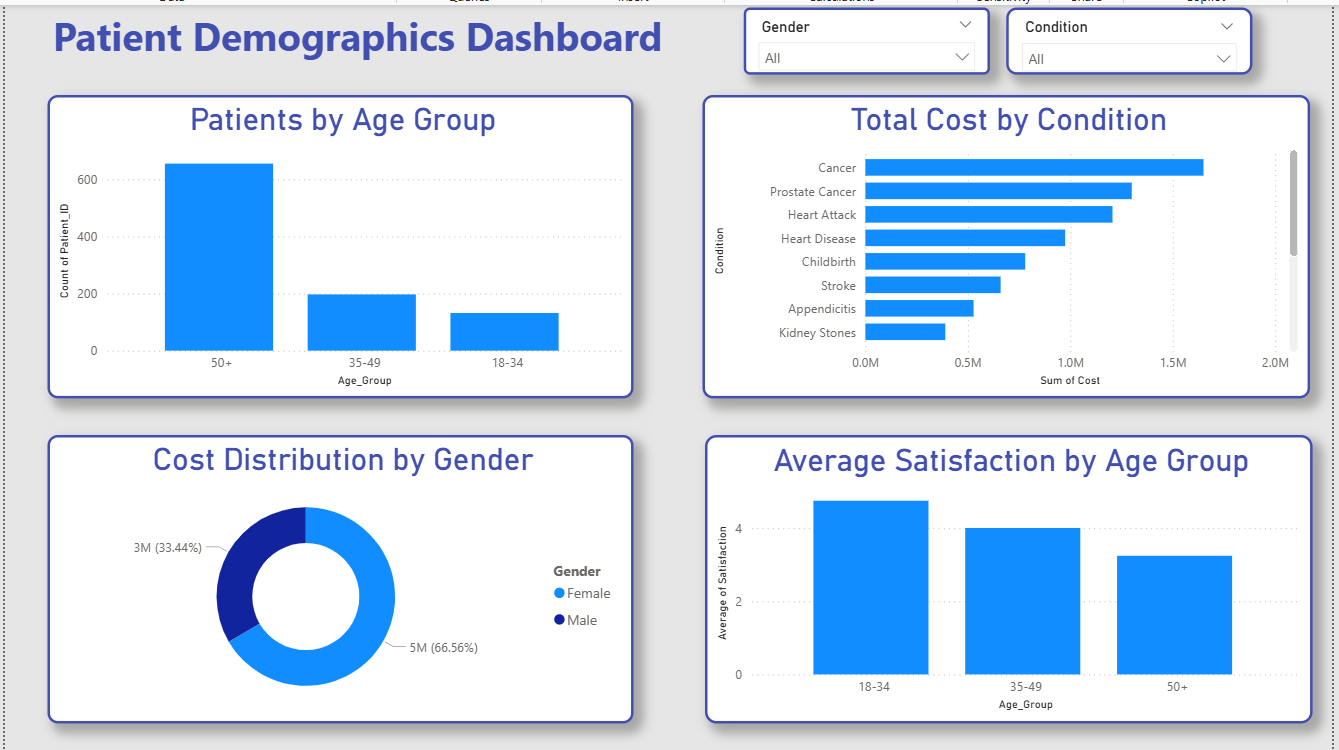

What the dashboard file says about the page in this screenshot:
{"tool":"powerbi","page":{"name":"Patient Demographics","canvas":[1280,720],"ordinal":1},"visuals":[{"type":"textbox","box":[41,0,631,67.6],"z":0},{"type":"clusteredColumnChart","title":"Patients by Age Group","fields":{"Category":["Table1.Age_Group"],"Y":["CountNonNull(Table1.Patient_ID)"]},"box":[41,86.9,565.8,293.2],"z":1000},{"type":"clusteredBarChart","title":"Total Cost by Condition","fields":{"Y":["Sum(Table1.Cost)"],"Category":["Table1.Condition"]},"box":[673.2,86.9,586.3,293.2],"z":2000},{"type":"donutChart","title":"Cost Distribution by Gender","fields":{"Category":["Table1.Gender"],"Y":["Sum(Table1.Cost)"]},"box":[41,415,565.8,278.7],"z":3000},{"type":"clusteredColumnChart","title":"Average Satisfaction by Age Group","fields":{"Category":["Table1.Age_Group"],"Y":["Avg(Table1.Satisfaction)"]},"box":[675.6,415,586.3,278.7],"z":4000},{"type":"slicer","fields":{"Values":["Table1.Gender"]},"box":[713,2.4,237.7,65.1],"z":5000},{"type":"slicer","fields":{"Values":["Table1.Condition"]},"box":[966.4,2.4,237.7,65.1],"z":6000}]}

Visuals, with their boxes in screenshot pixels (x1, y1, x2, y2):
textbox: x1=49, y1=3, x2=697, y2=73
"Patients by Age Group" clusteredColumnChart: x1=49, y1=93, x2=630, y2=394
"Total Cost by Condition" clusteredBarChart: x1=698, y1=93, x2=1300, y2=394
"Cost Distribution by Gender" donutChart: x1=49, y1=430, x2=630, y2=716
"Average Satisfaction by Age Group" clusteredColumnChart: x1=701, y1=430, x2=1303, y2=716
slicer - Table1.Gender: x1=739, y1=6, x2=983, y2=73
slicer - Table1.Condition: x1=999, y1=6, x2=1243, y2=73
